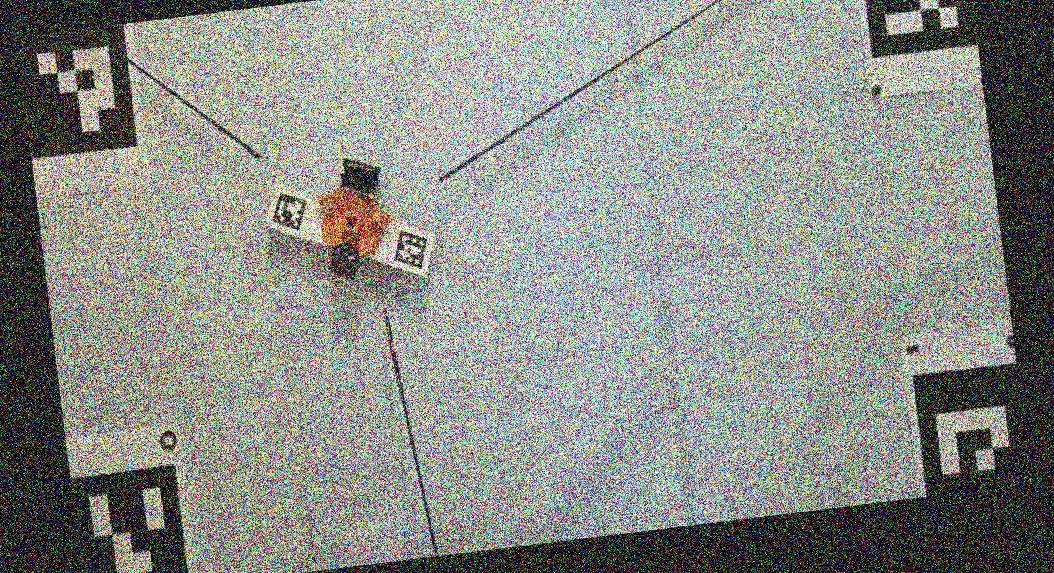robot: (319, 160, 393, 279)
